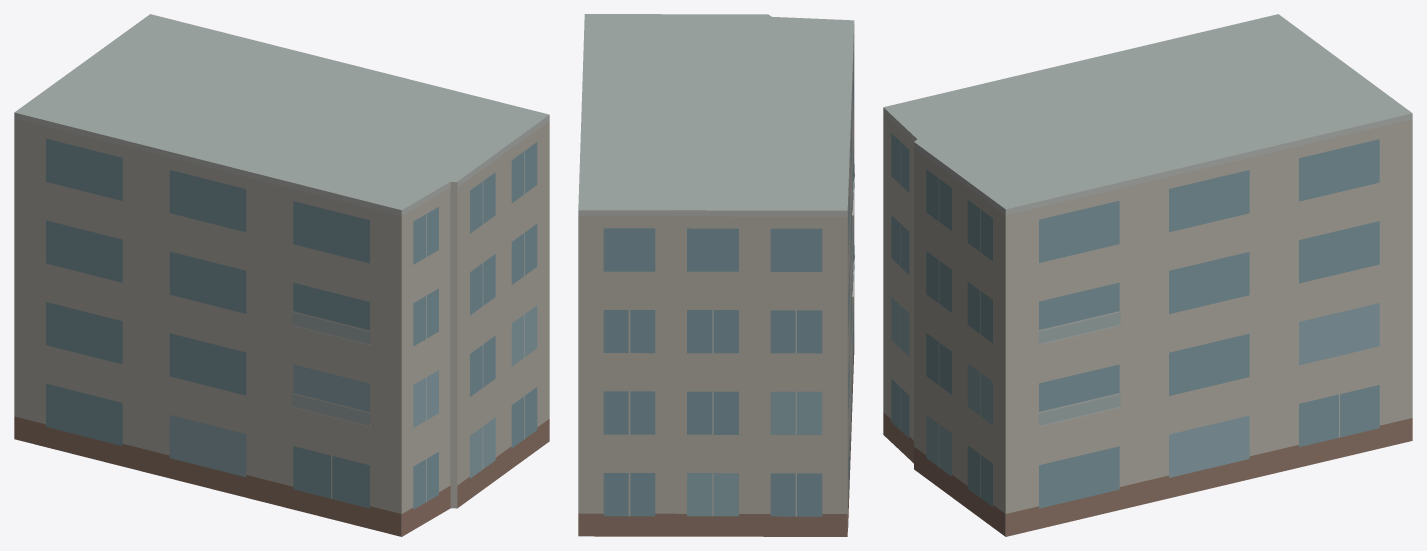
The model's file is survey-upis-32908819.glb.
3 renders of one model, left to right at view 1: azimuth 30°, elevation 25°; view 2: azimuth 150°, elevation 25°; view 3: azimuth 270°, elevation 25°, orthographic.
Visible parts, largest first — view 1: survey-upis-32908819.tmp; view 2: survey-upis-32908819.tmp; view 3: survey-upis-32908819.tmp.
Part boxes in pixels (left/top/right/bottom): survey-upis-32908819.tmp: left=14, top=14, right=549, bottom=536; survey-upis-32908819.tmp: left=578, top=14, right=854, bottom=536; survey-upis-32908819.tmp: left=883, top=14, right=1412, bottom=536.
Size of the model in its own units: 17.05 by 13.32 by 19.52.
